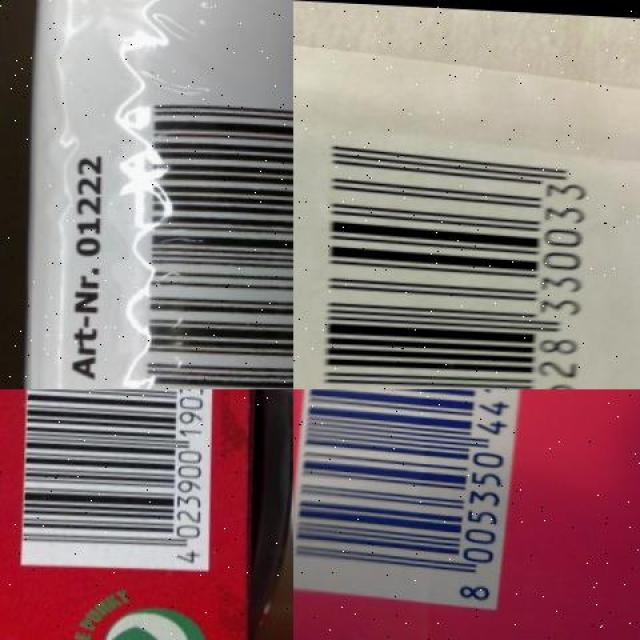Barcode: (293, 127, 616, 389), (294, 390, 538, 614), (124, 86, 293, 390), (19, 389, 213, 571)
